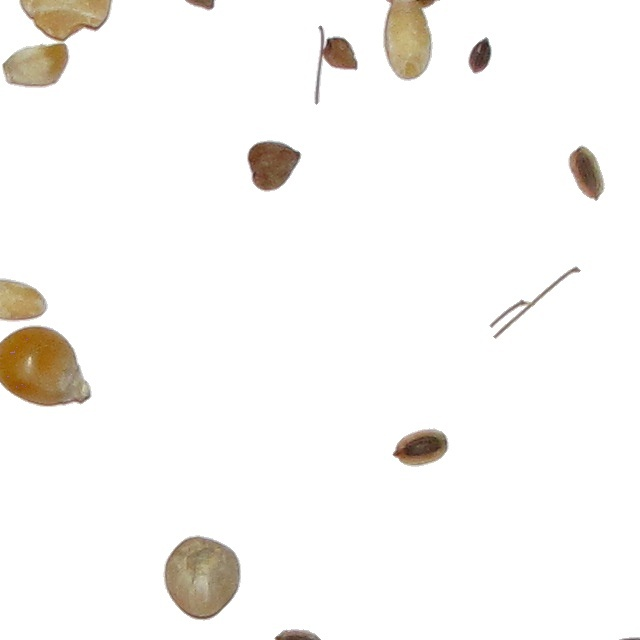buckwheat: (313, 24, 359, 106), (246, 139, 303, 193), (391, 427, 450, 468), (567, 144, 606, 202), (467, 36, 493, 75), (273, 628, 325, 640), (606, 636, 640, 640)
mais: (162, 534, 242, 622)
other: (377, 2, 434, 82), (1, 41, 71, 89)
